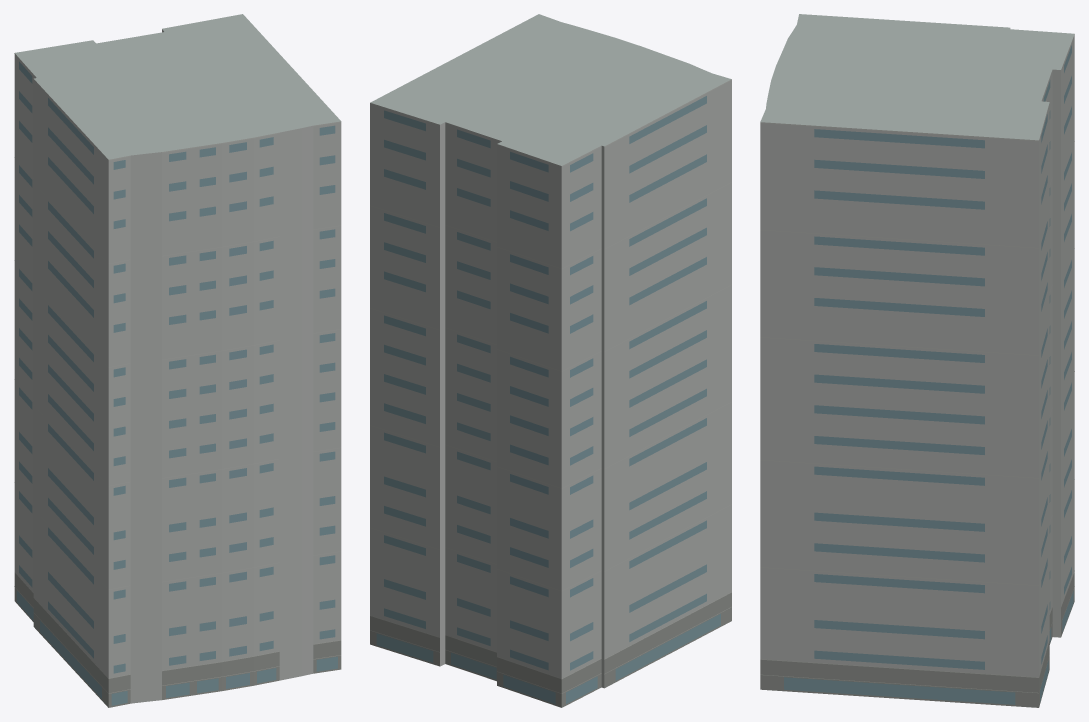
Rendered from survey-upis-32818757.glb.
The picture shows the model from 3 angles, left to right: view 1: azimuth 30°, elevation 25°; view 2: azimuth 150°, elevation 25°; view 3: azimuth 270°, elevation 25°; orthographic projection. The views are drawn at different scales.
Parts seen in each view (by area): view 1: survey-upis-32818757.tmp; view 2: survey-upis-32818757.tmp; view 3: survey-upis-32818757.tmp.
Part boxes in pixels (bbox=[...]): survey-upis-32818757.tmp: bbox=[14, 14, 341, 707]; survey-upis-32818757.tmp: bbox=[370, 14, 731, 707]; survey-upis-32818757.tmp: bbox=[760, 14, 1074, 707].
Bounding box in the file's own units: 63.56 × 133 × 66.84.
